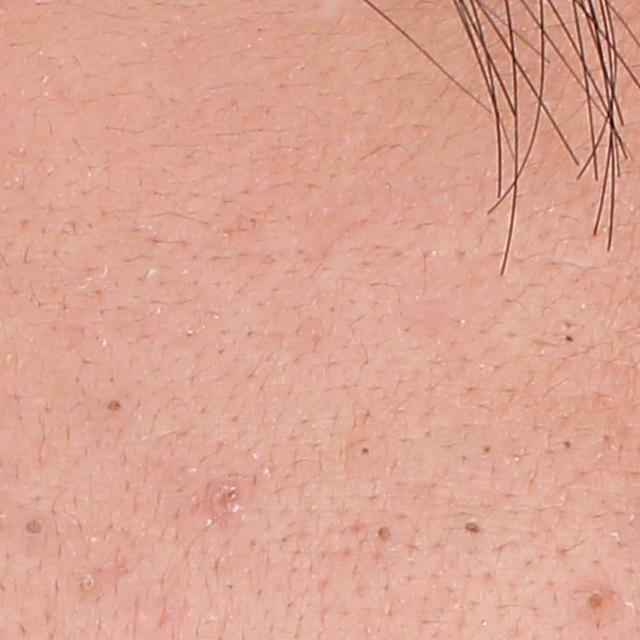comedo: (215, 485, 237, 509), (21, 517, 46, 537), (104, 396, 124, 416), (80, 573, 97, 596), (465, 520, 482, 540), (561, 437, 576, 452)
